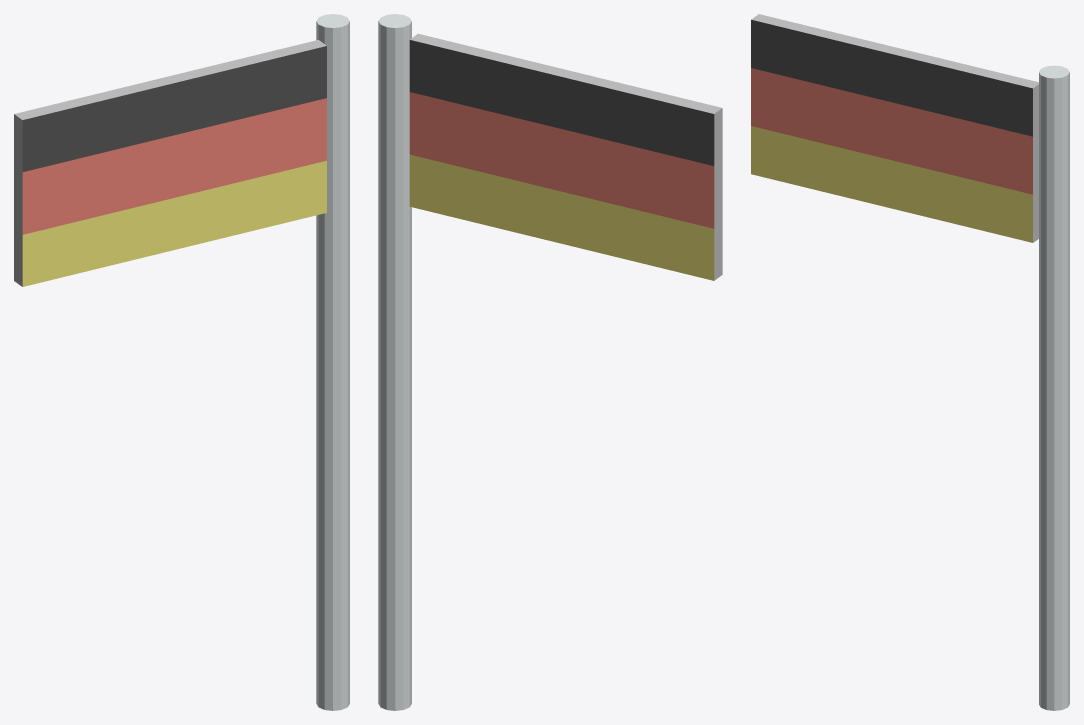
The model's file is German Flag by Götz Minuth - 0BuH1f8ddzK.glb.
The picture shows the model from 3 angles, left to right: view 1: azimuth 30°, elevation 25°; view 2: azimuth 150°, elevation 25°; view 3: azimuth 330°, elevation 25°; orthographic projection. The views are drawn at different scales.
Parts seen in each view (by area): view 1: group1449568454, group1730482214; view 2: group1449568454, group1730482214; view 3: group1449568454, group1730482214.
Part boxes in pixels (x1,y1,x2,y2): group1449568454: [14, 40, 326, 286]; group1730482214: [316, 14, 349, 710]; group1449568454: [409, 33, 722, 280]; group1730482214: [378, 14, 411, 710]; group1449568454: [751, 14, 1038, 242]; group1730482214: [1039, 65, 1069, 710].
Size of the model in its own units: 0.23 by 0.45 by 0.02.
